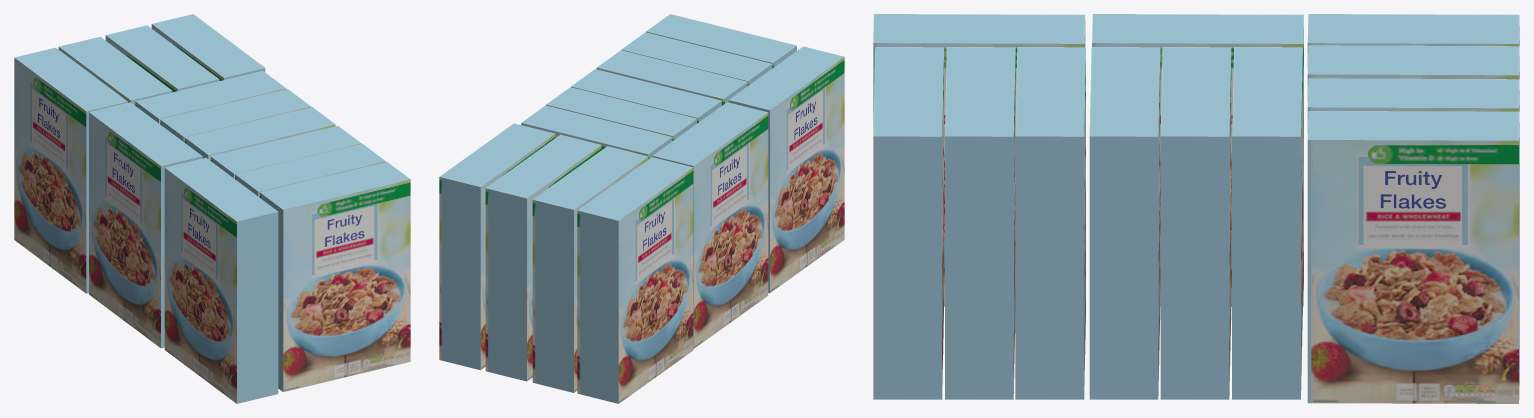
The model's file is cereal6pile.fbx.
The picture shows the model from 3 angles, left to right: view 1: azimuth 30°, elevation 25°; view 2: azimuth 150°, elevation 25°; view 3: azimuth 270°, elevation 25°; orthographic projection. The views are drawn at different scales.
Parts seen in each view (by area): view 1: CerealBoxSingle.001; view 2: CerealBoxSingle.001; view 3: CerealBoxSingle.001.
Part boxes in pixels (x1,y1,x2,y2): CerealBoxSingle.001: (14, 14, 410, 403); CerealBoxSingle.001: (439, 14, 844, 403); CerealBoxSingle.001: (873, 14, 1519, 403).
Bounding box in the file's own units: 106 × 103 × 229.
